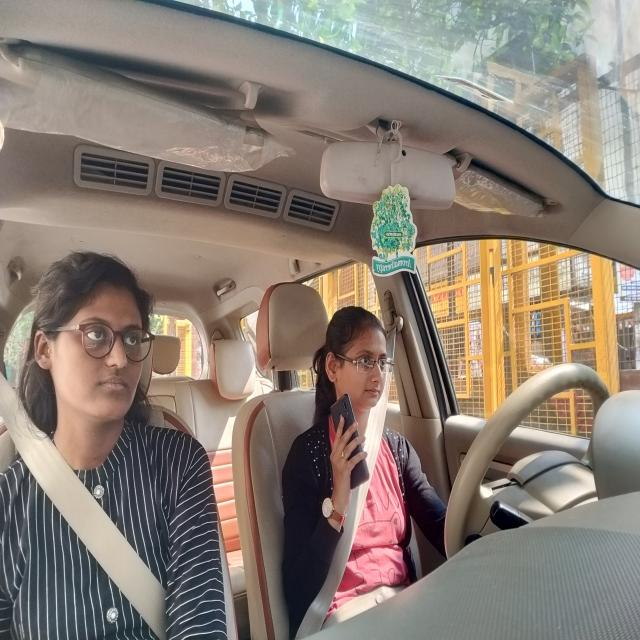mobile: (327, 391, 371, 491)
person: (30, 247, 154, 438), (323, 300, 393, 427)
